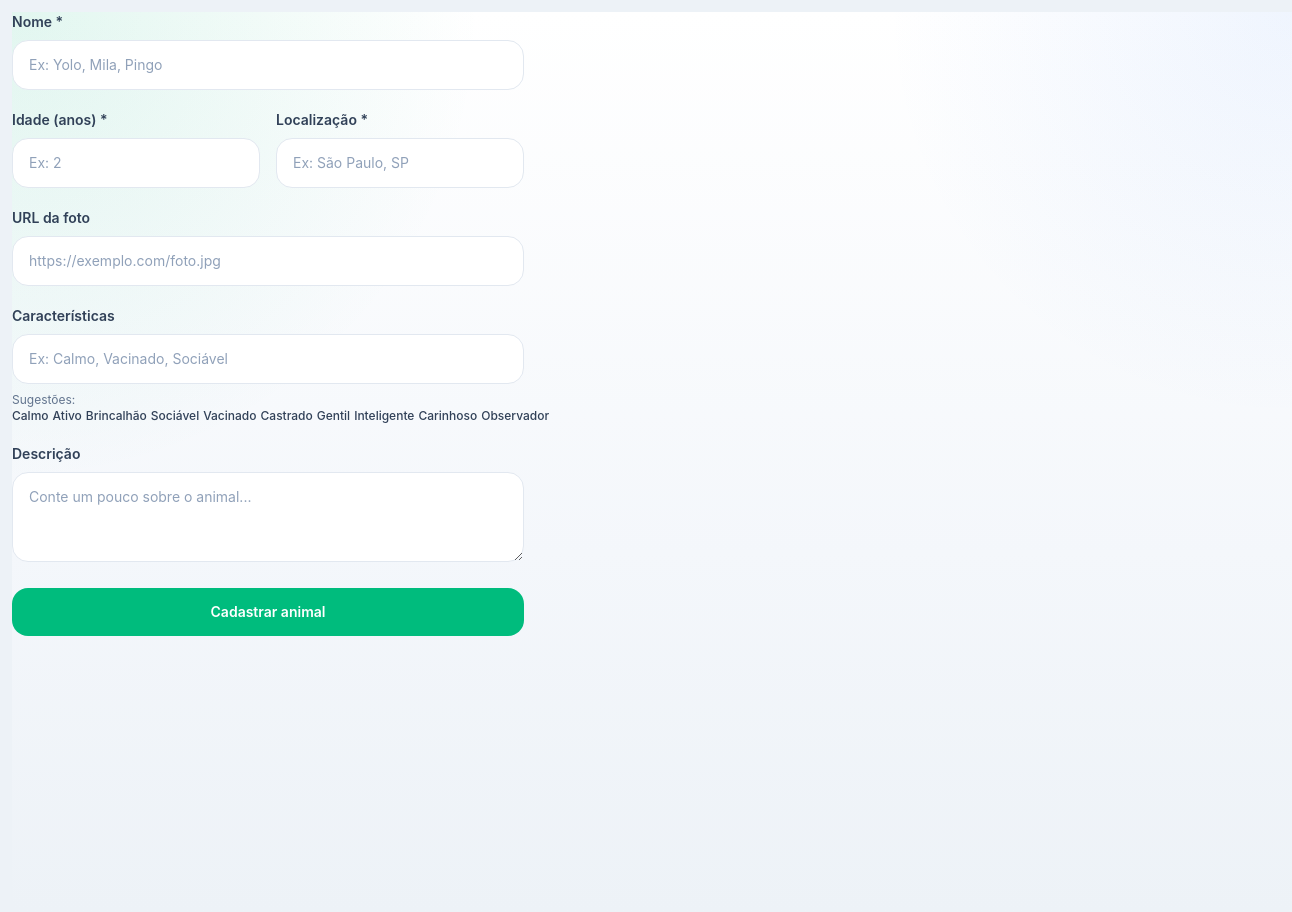
Test case: OngAnimalForm › shows age validation error for non-integer age
Type "Rex" into the field with placeholder "Ex: Yolo, Mila, Pingo" at (268, 65), box [12,40,524,90]
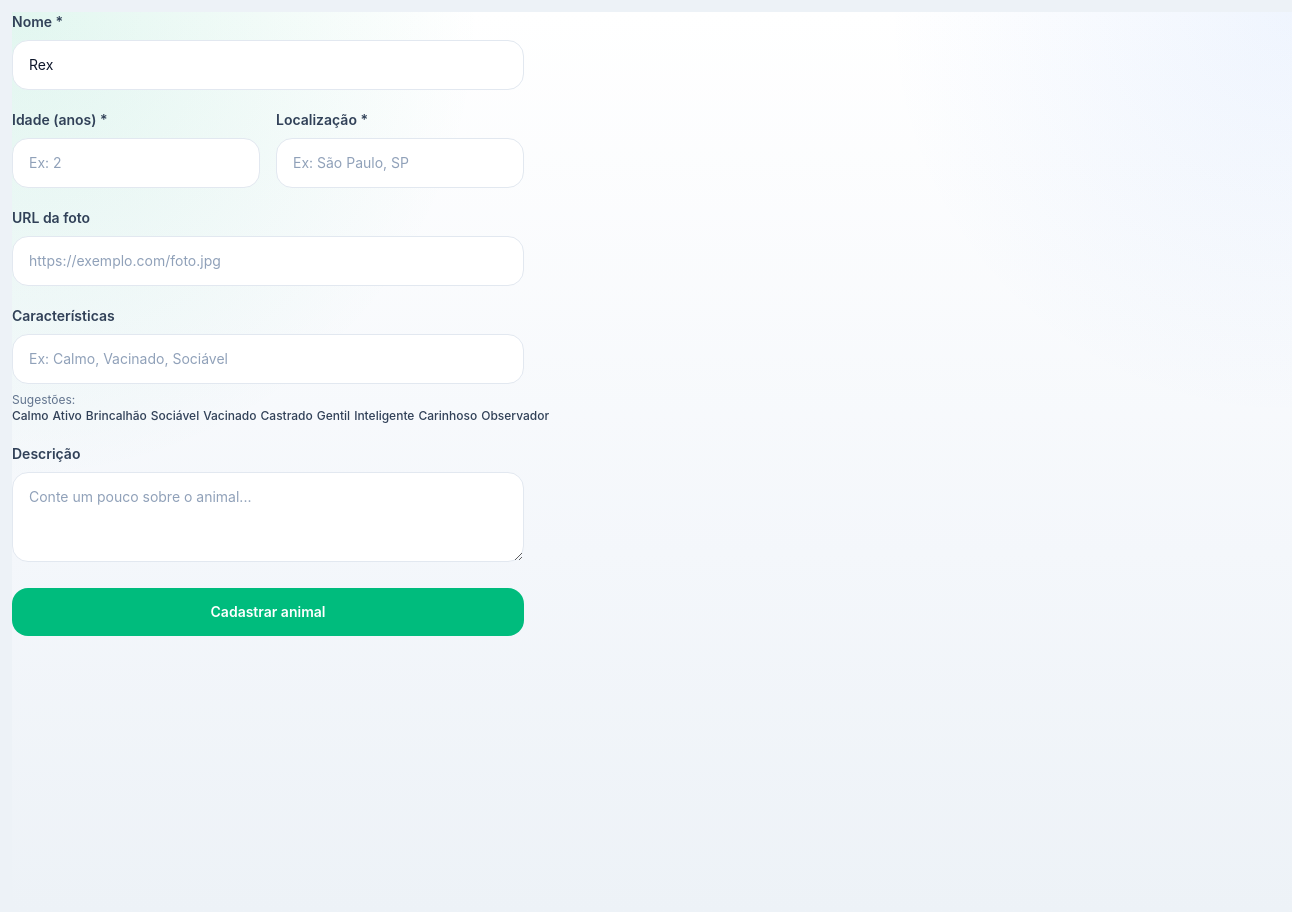
Type "-1" into the number field with placeholder "Ex: 2" at (136, 163), box [12,138,260,188]
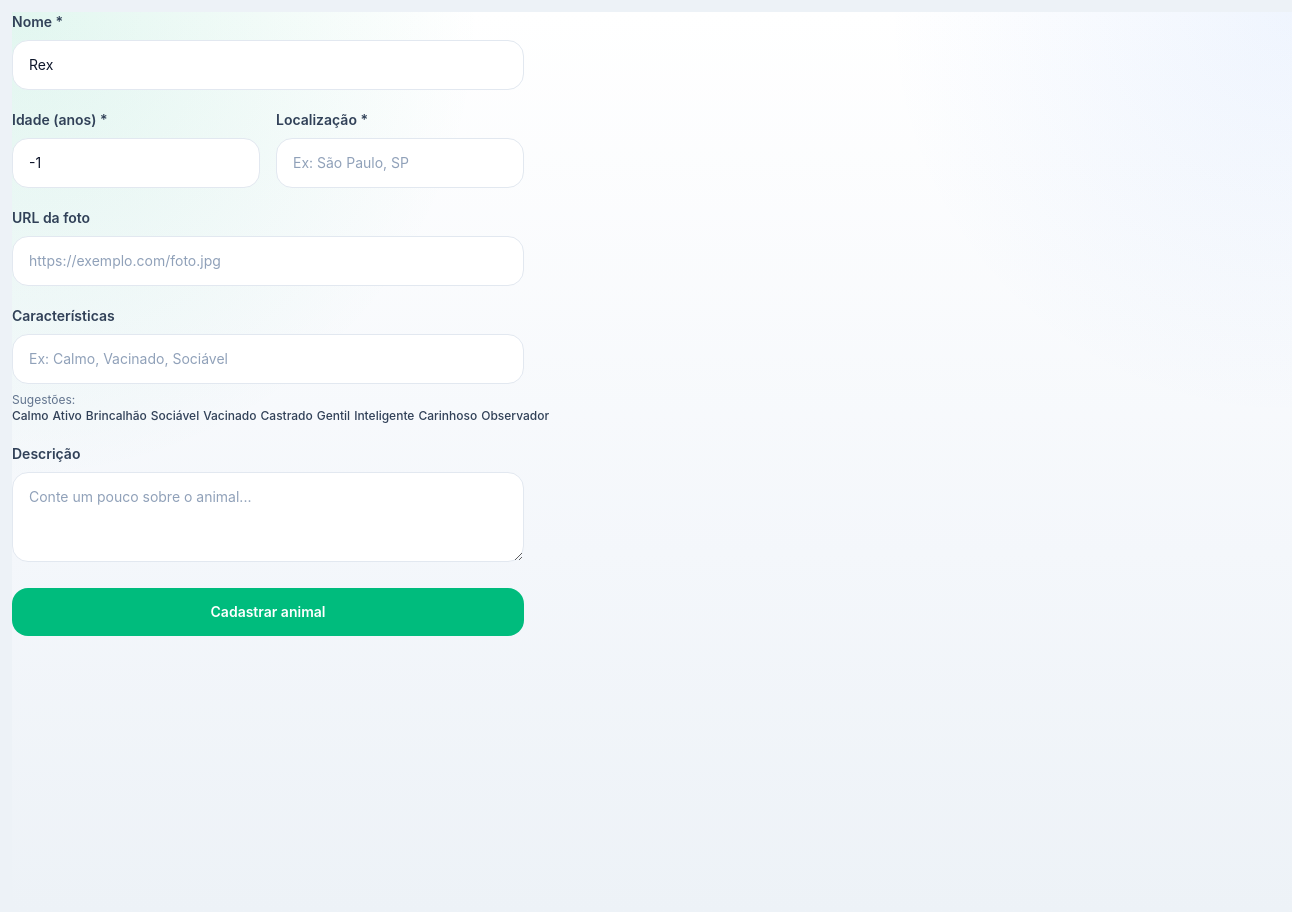
Type "São Paulo, SP" into the field with placeholder "Ex: São Paulo, SP" at (400, 163), box [276,138,524,188]
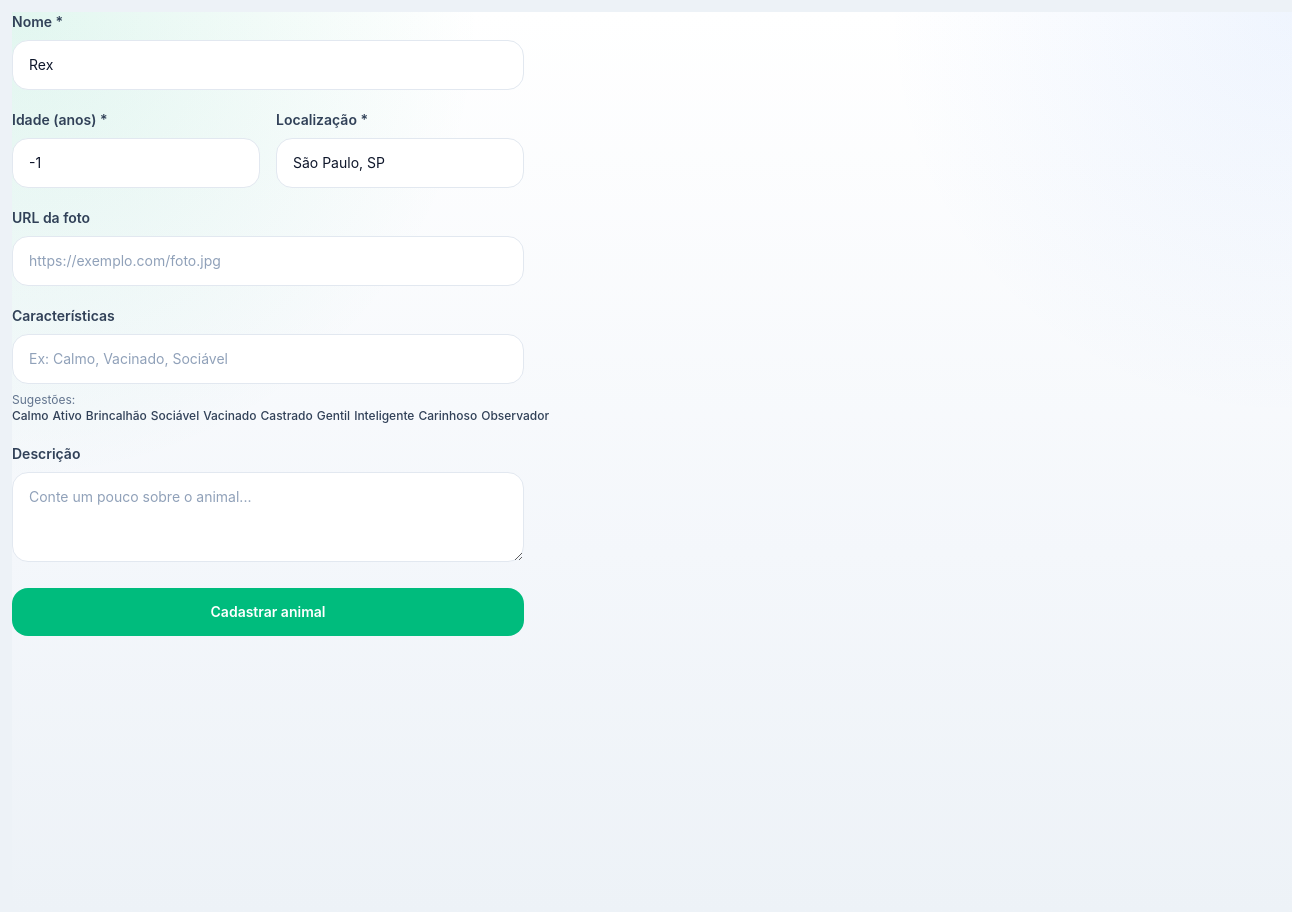
Submit the form from the button "Cadastrar animal", box [12,588,524,636]
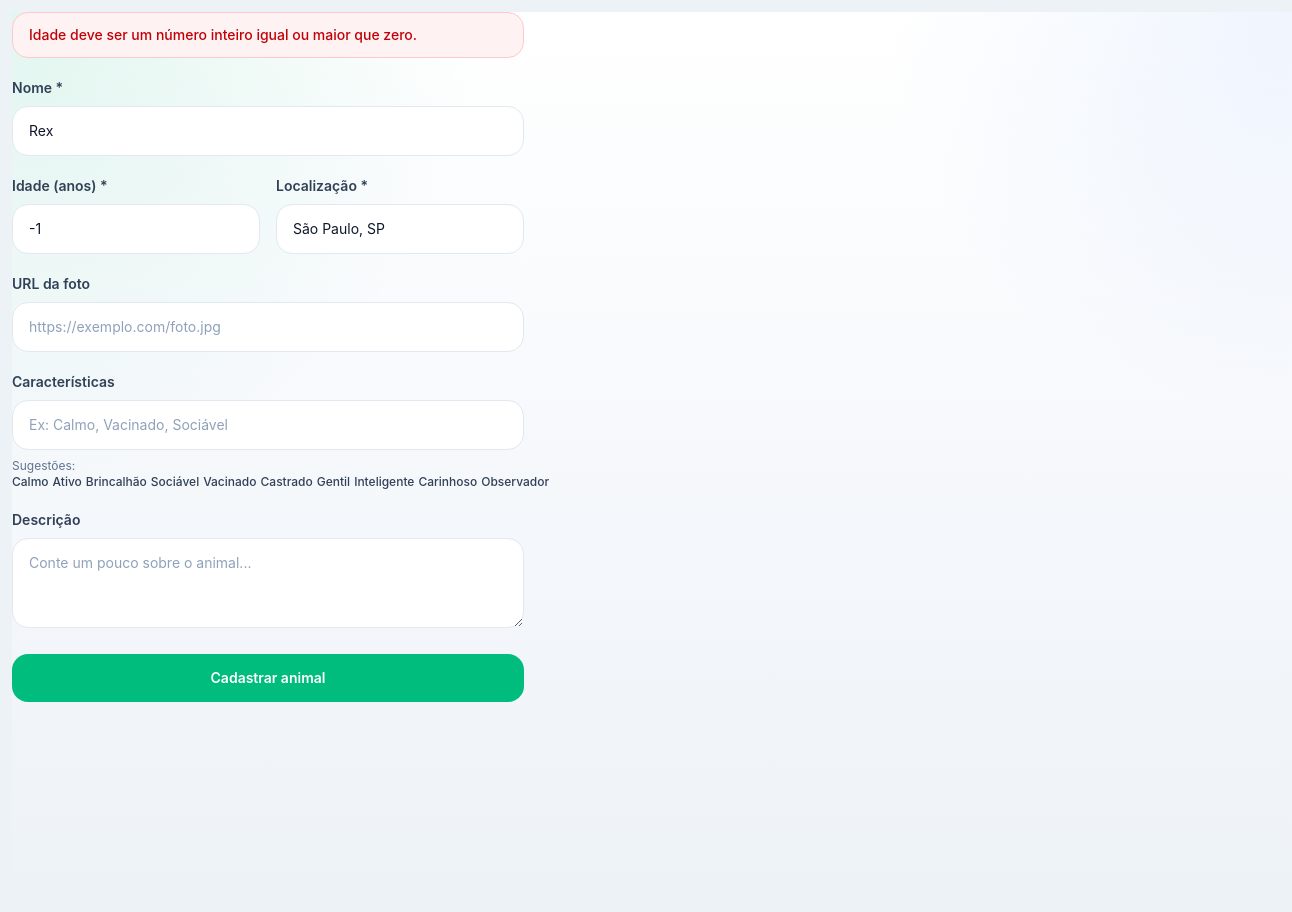
Check: the text "Idade deve ser um número inteiro igual ou maior que zero." is shown, box [12,12,524,58]
